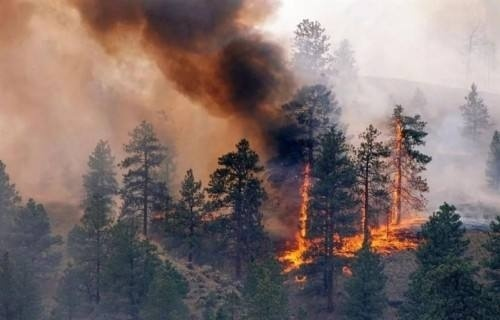fire: (280, 116, 431, 280)
